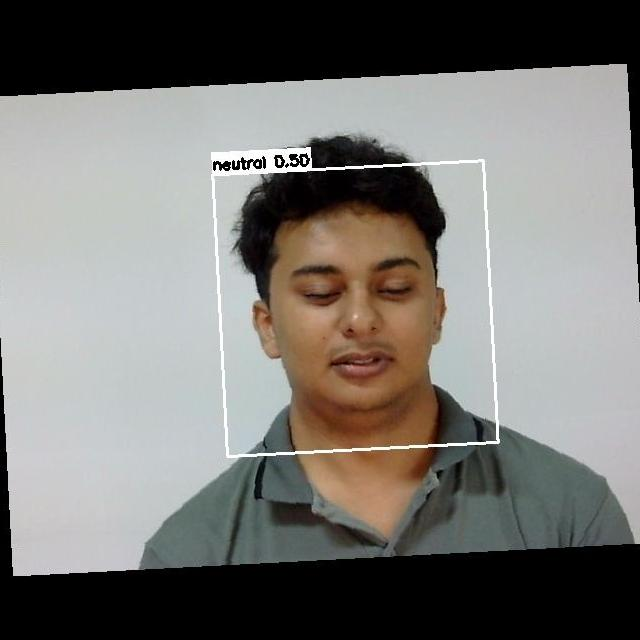Sad: (274, 249, 442, 399)
